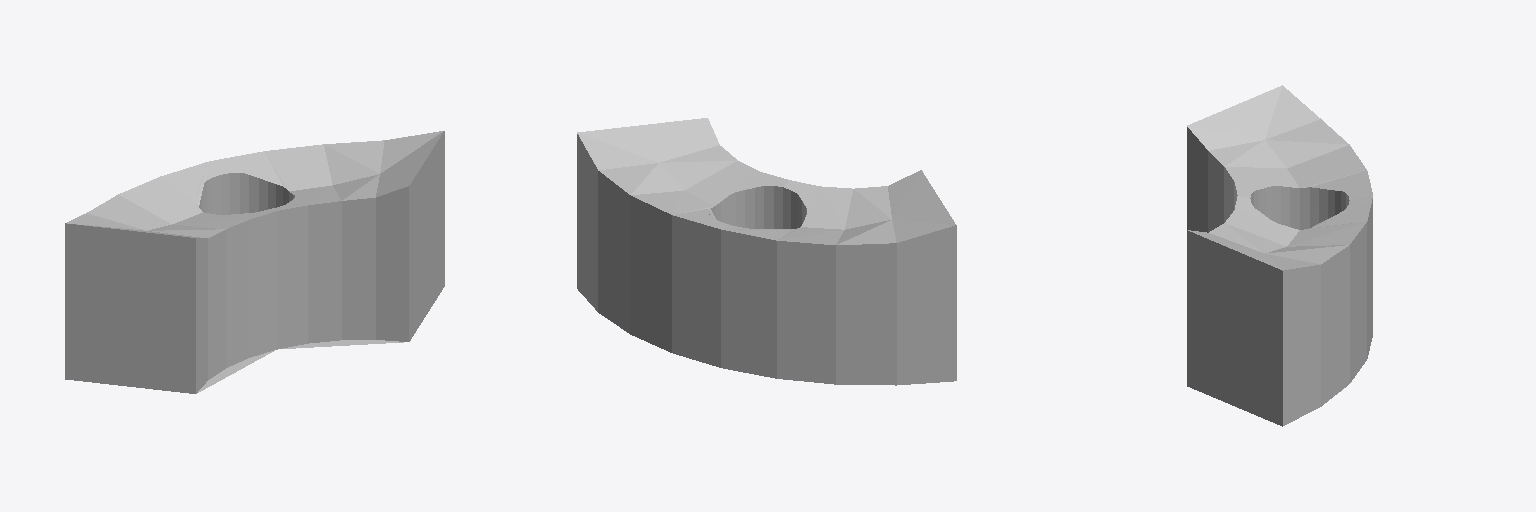
Rendered from slopedHole.obj.
3 renders of one model, left to right at view 1: azimuth 30°, elevation 25°; view 2: azimuth 150°, elevation 25°; view 3: azimuth 270°, elevation 25°, orthographic.
Visible parts, largest first — view 1: Cylinder_Cylinder.020; view 2: Cylinder_Cylinder.020; view 3: Cylinder_Cylinder.020.
Part boxes in pixels (x1,y1,x2,y2): Cylinder_Cylinder.020: (65, 131, 444, 393); Cylinder_Cylinder.020: (577, 118, 956, 385); Cylinder_Cylinder.020: (1187, 85, 1372, 426).
Size of the model in its own units: 1.41 by 0.556 by 0.6023.